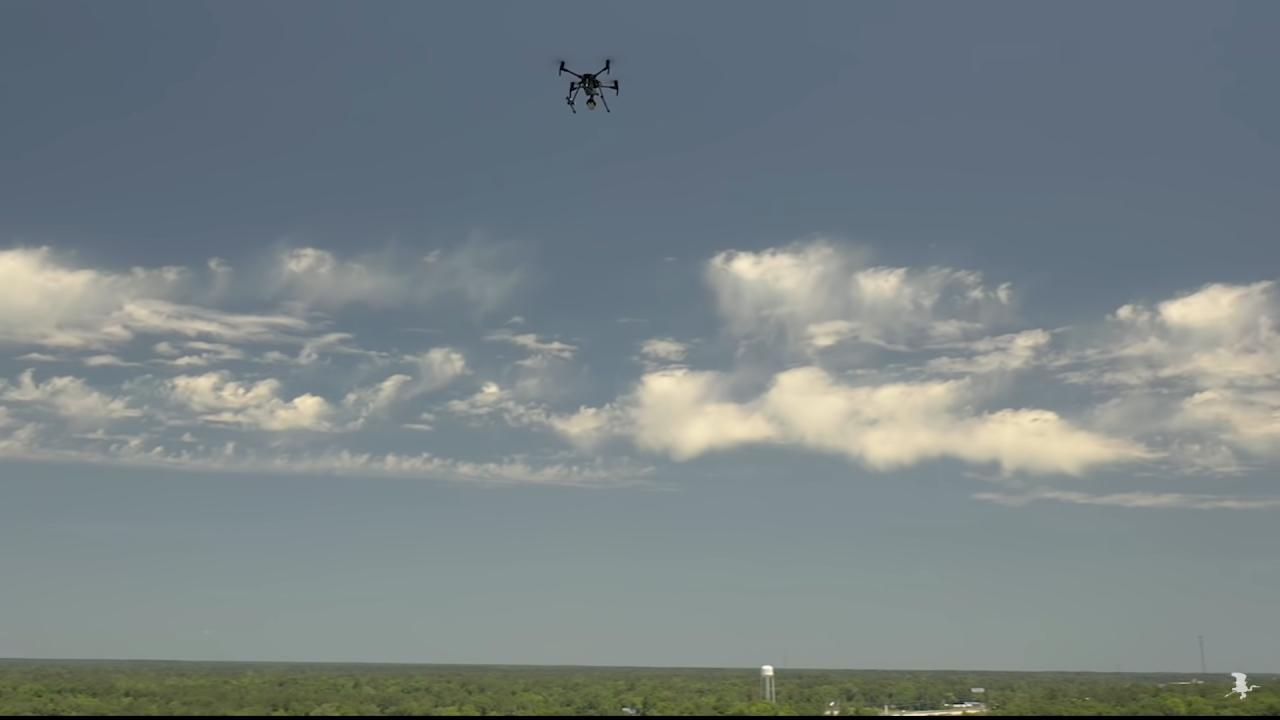Drone: (544, 46, 633, 124)
